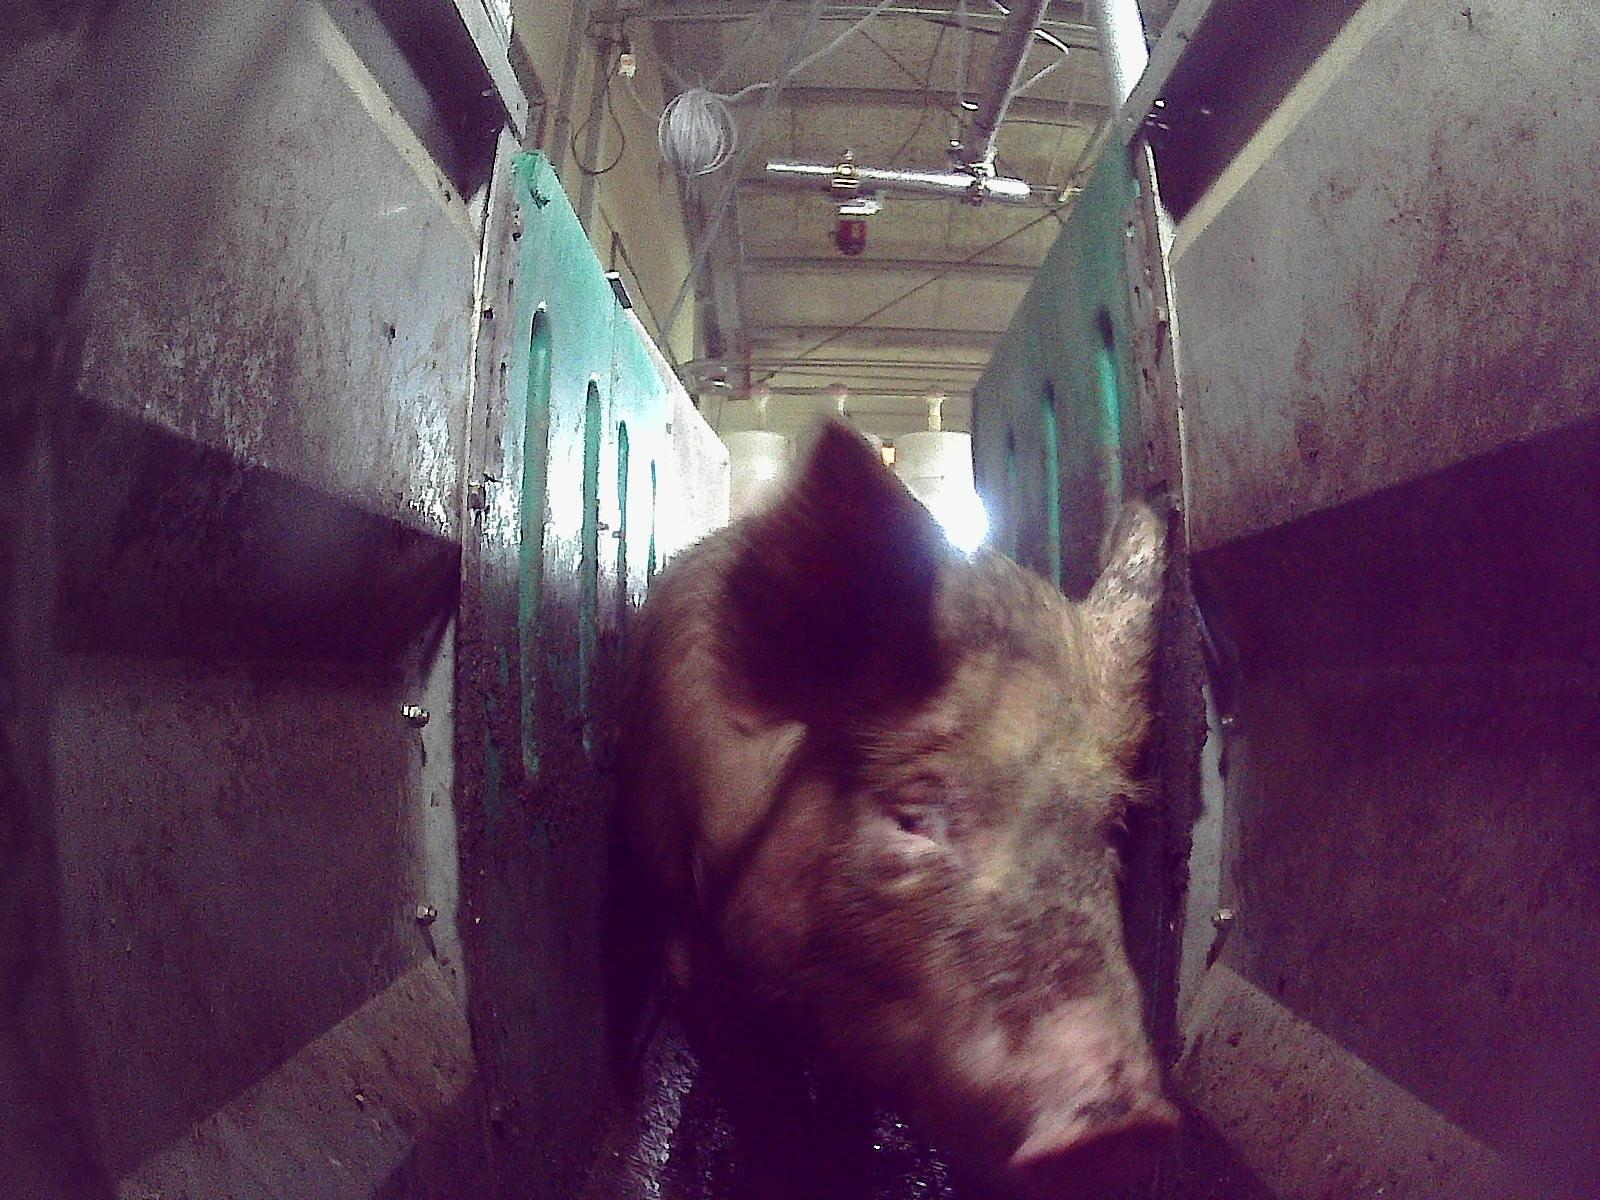Face: (825, 596, 1179, 1188)
